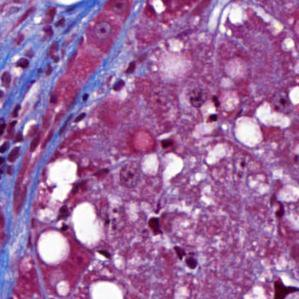inflammation: (185, 89, 226, 127), (142, 207, 170, 243), (266, 271, 299, 299), (171, 243, 201, 273)
